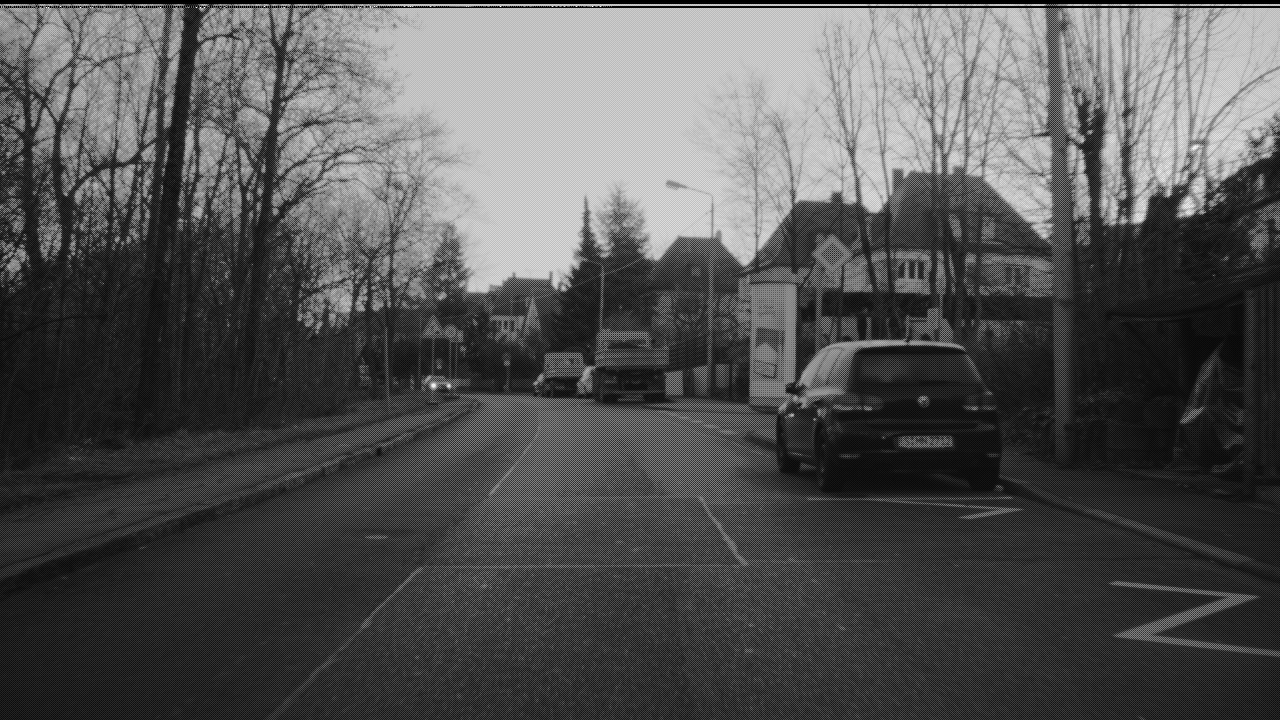pole: (1045, 1, 1071, 457), (708, 194, 716, 389)
